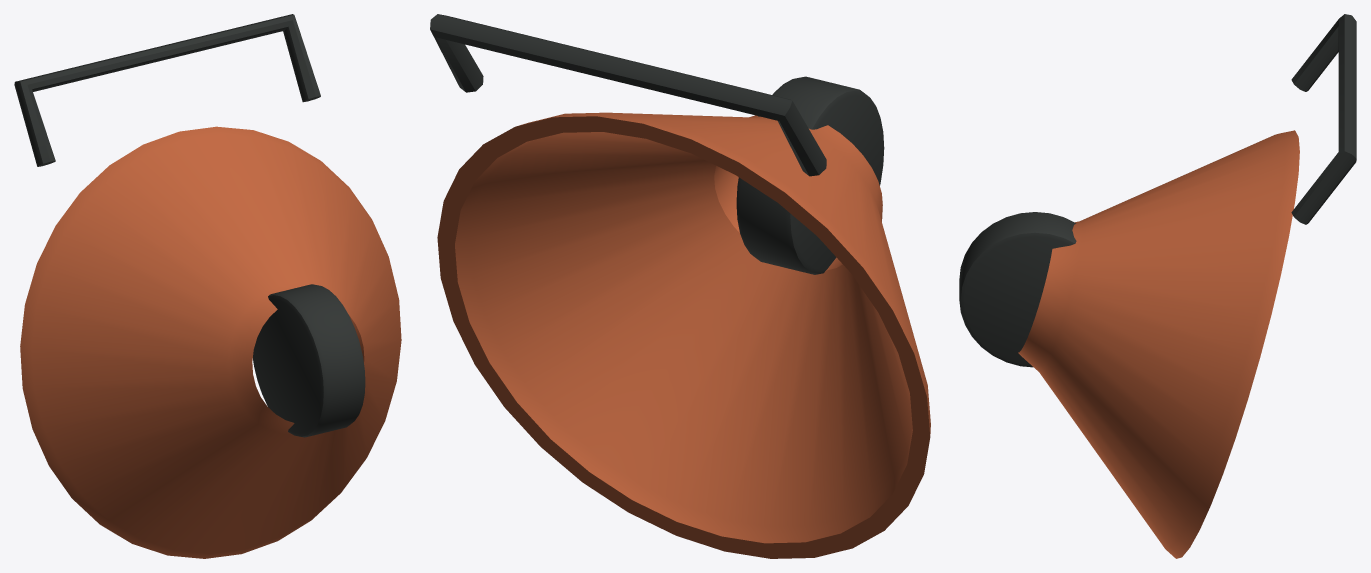
Rendered from wall_extraction_arm_hood.glb.
3 views of the same model, side by side, from view 1: azimuth 30°, elevation 25°; view 2: azimuth 150°, elevation 25°; view 3: azimuth 270°, elevation 25° (orthographic). The views are drawn at different scales.
Parts seen in each view (by area): view 1: wall_extraction_arm_hood; view 2: wall_extraction_arm_hood; view 3: wall_extraction_arm_hood.
Part boxes in pixels (x1=…): wall_extraction_arm_hood: x1=14, y1=14, x2=401, y2=558; wall_extraction_arm_hood: x1=430, y1=14, x2=930, y2=558; wall_extraction_arm_hood: x1=959, y1=14, x2=1356, y2=558.
Bounding box in the file's own units: 0.34 × 0.3837 × 0.3037.
